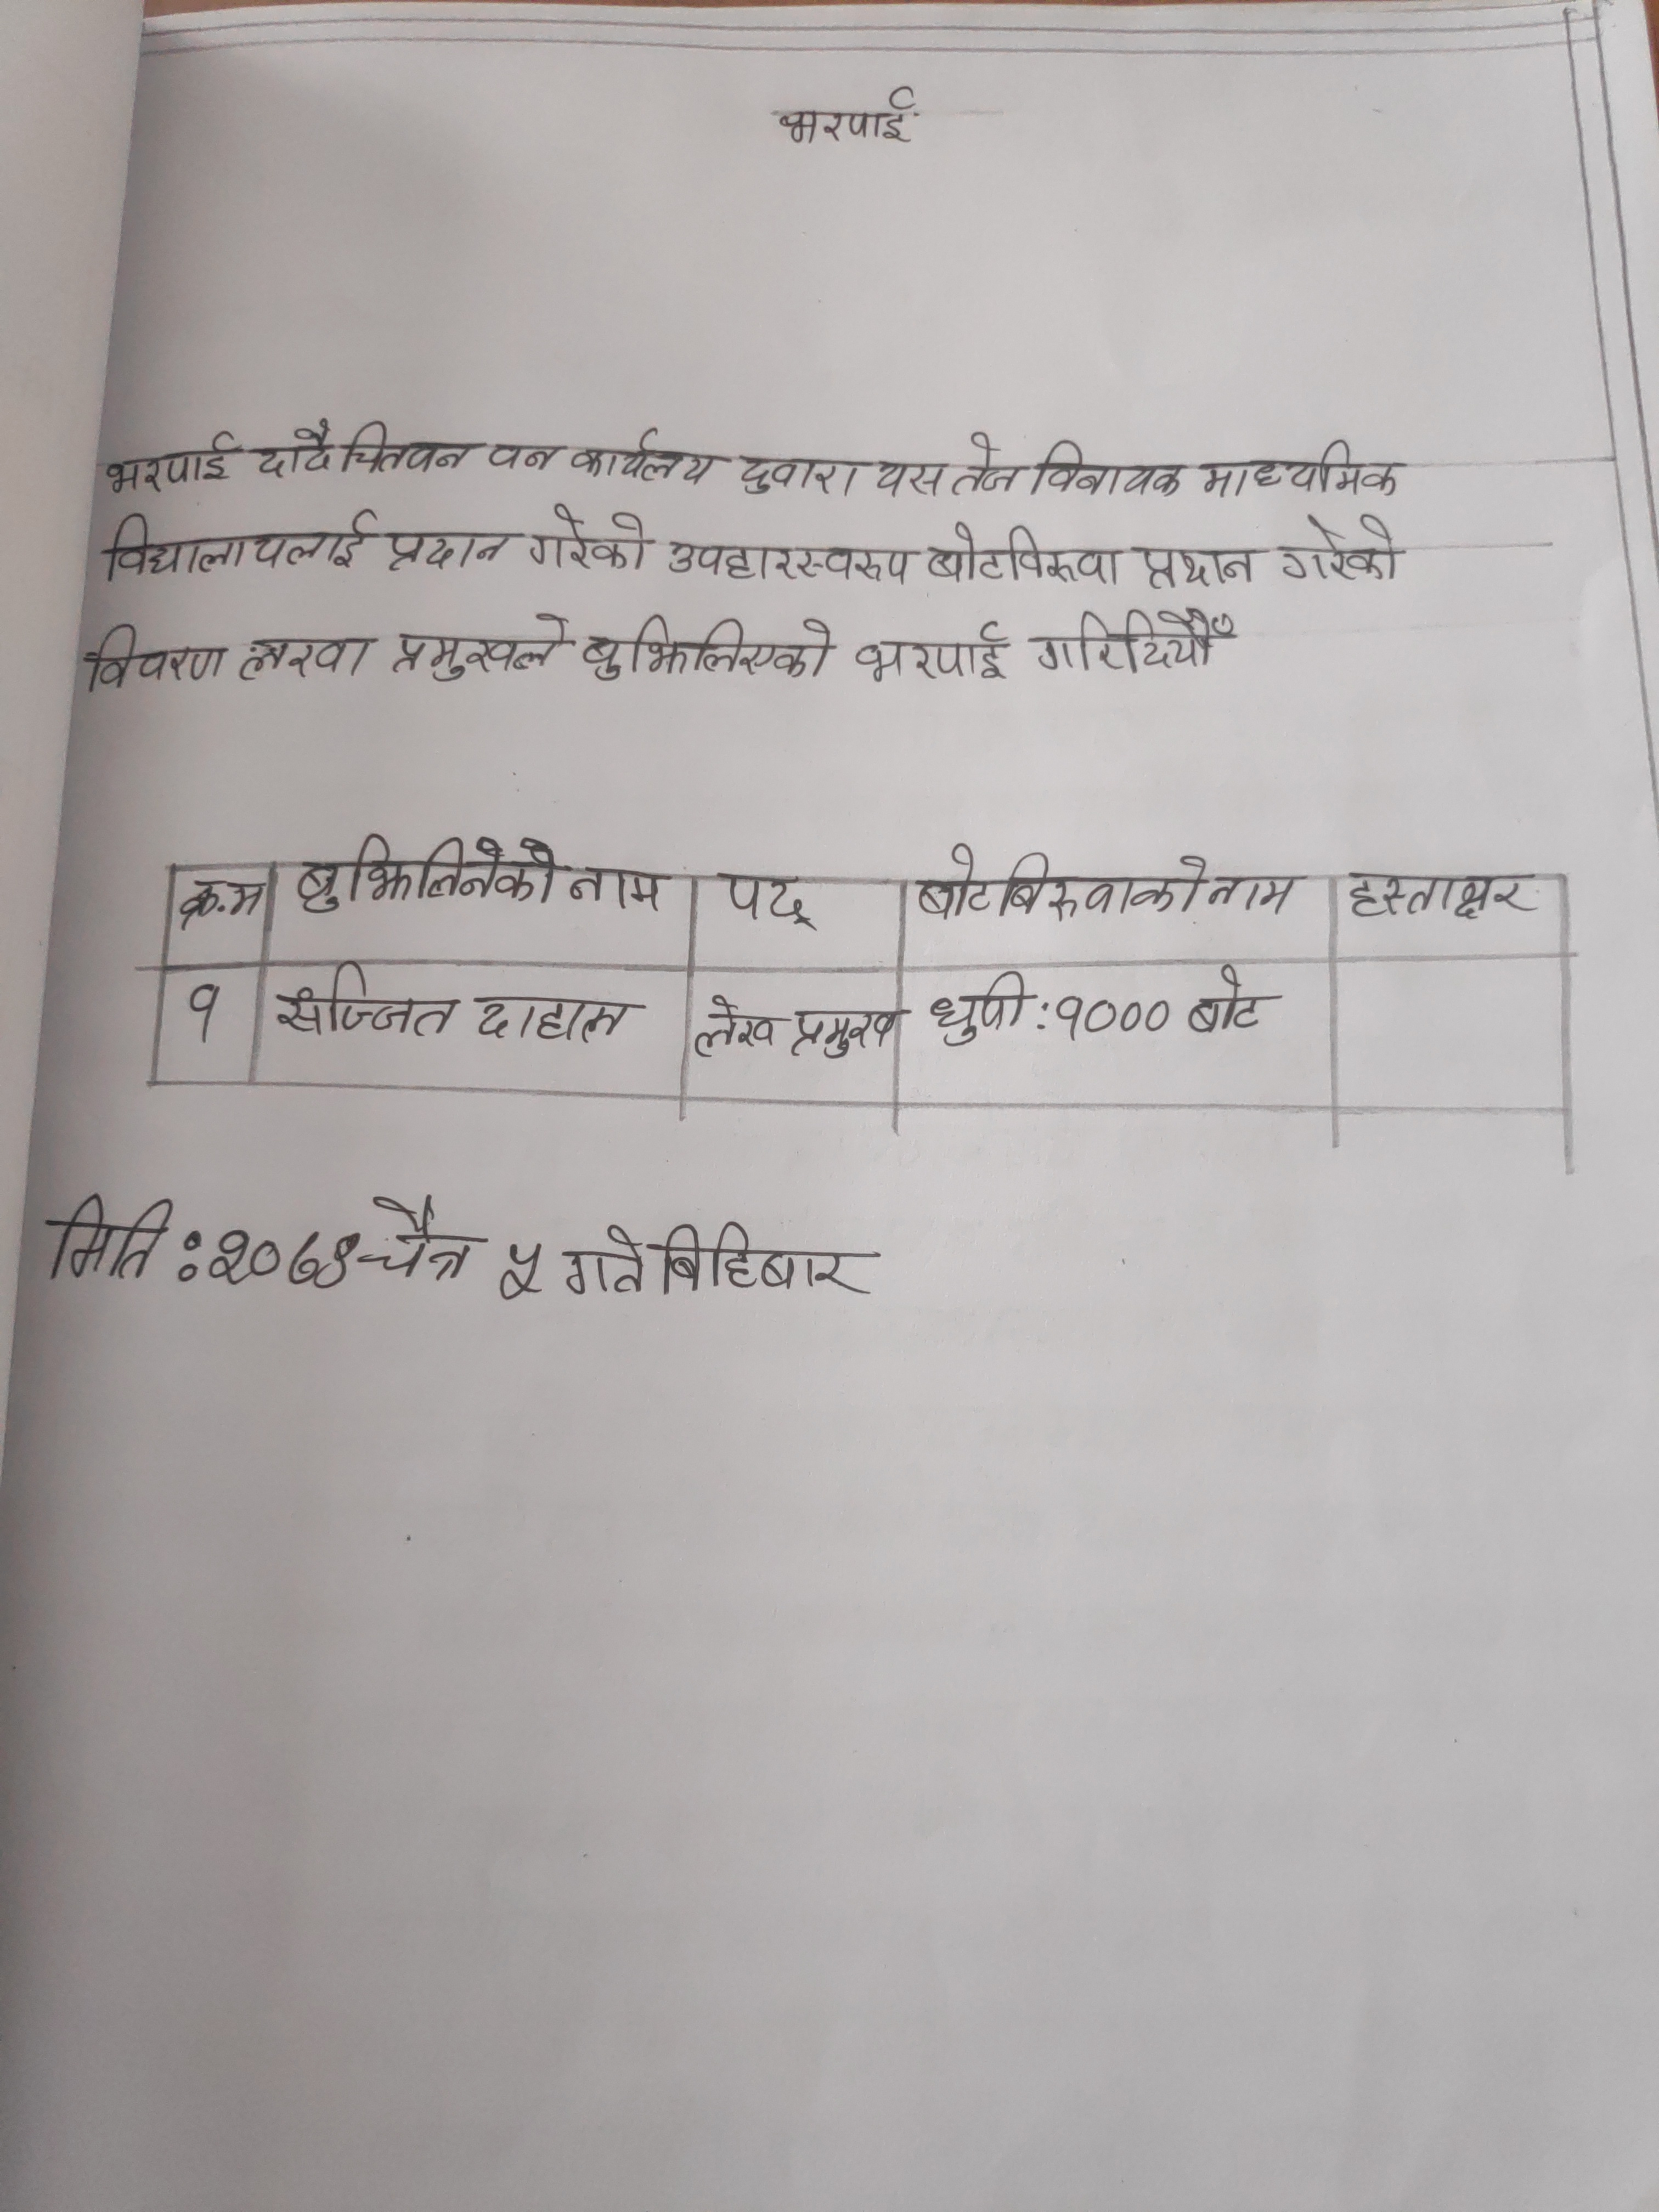text: (291, 829, 559, 918), (913, 843, 1208, 923), (105, 503, 378, 585), (577, 613, 836, 688), (655, 1221, 884, 1305), (662, 531, 915, 594), (1030, 601, 1237, 676), (662, 529, 915, 590), (389, 611, 573, 688), (920, 524, 1121, 594), (35, 1188, 179, 1282), (272, 968, 462, 1040), (1345, 862, 1542, 930), (1201, 435, 1408, 500), (854, 617, 1014, 693), (80, 617, 225, 698), (202, 1223, 356, 1298), (361, 1198, 483, 1292), (469, 981, 636, 1049), (566, 427, 723, 495), (94, 423, 240, 495), (1030, 435, 1185, 502), (1276, 510, 1406, 589), (774, 85, 931, 150), (525, 505, 652, 577), (924, 965, 1032, 1049), (338, 420, 479, 477), (1044, 991, 1176, 1049), (732, 449, 866, 505), (1134, 533, 1260, 592), (561, 1224, 647, 1308), (784, 1005, 904, 1064), (380, 524, 514, 577), (688, 991, 781, 1066), (1187, 967, 1272, 1045), (234, 636, 376, 681), (720, 867, 816, 934), (559, 862, 666, 920), (953, 427, 1028, 507), (258, 416, 340, 481), (171, 878, 272, 928), (483, 1235, 549, 1306), (1208, 873, 1300, 923), (486, 435, 565, 477), (875, 455, 945, 500)
